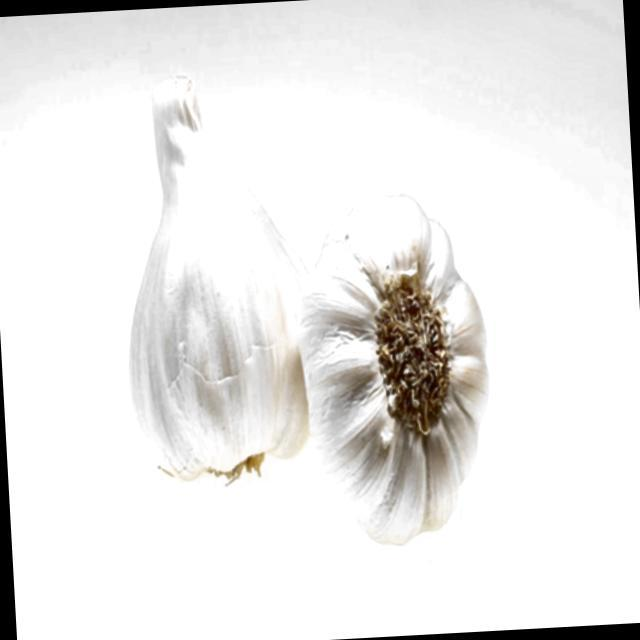garlic: (130, 78, 308, 479), (301, 198, 488, 543)
